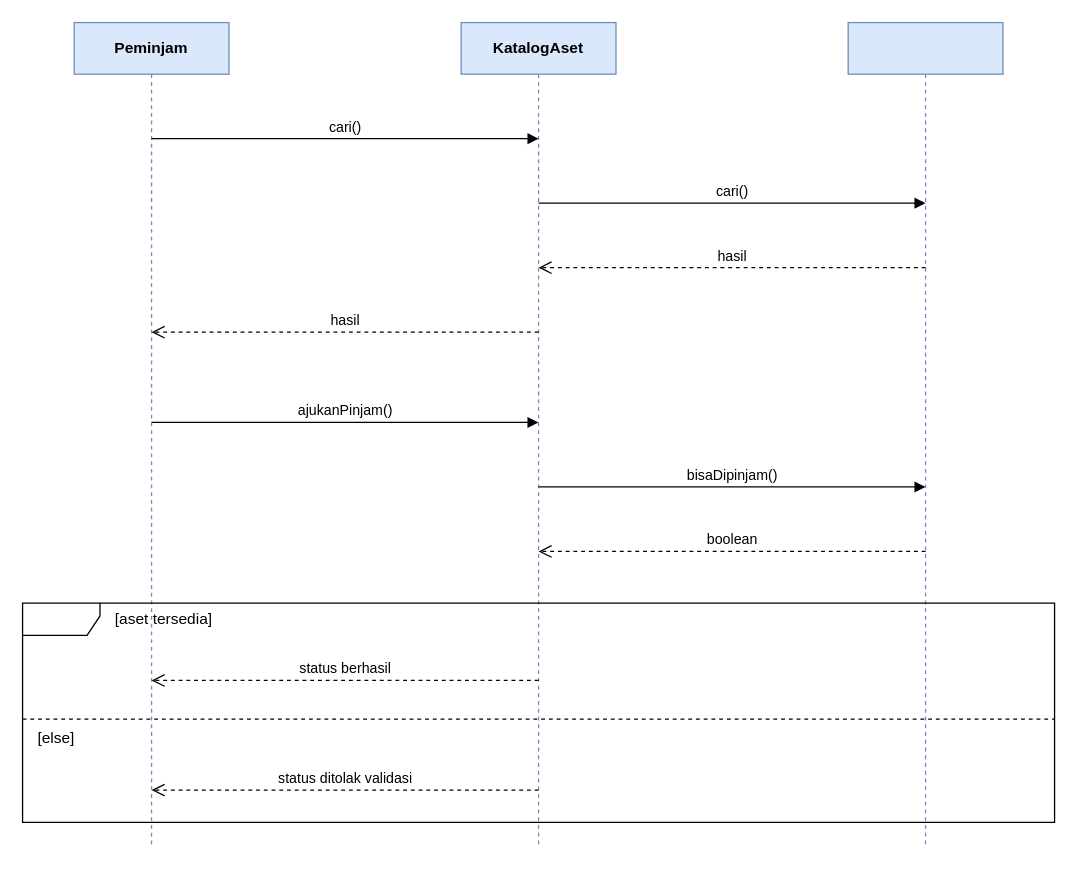
This 1078x871 diagram has some shape labels left out. Here are the shapes that lost their labels. From the top down, the box of each, then its label:
(847, 21, 1003, 848): Aset
(21, 602, 1055, 822): alt
